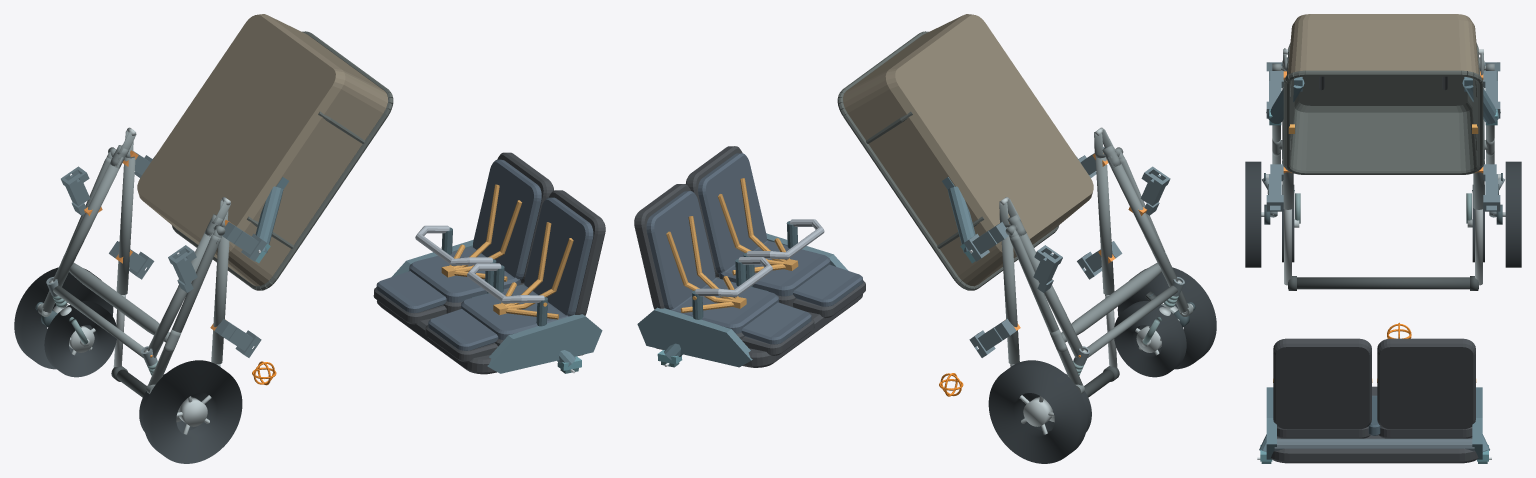
Rendered from D28_w650_state3_wheel_M.glb.
3 views of the same model, side by side, from view 1: azimuth 30°, elevation 25°; view 2: azimuth 150°, elevation 25°; view 3: azimuth 270°, elevation 25° (orthographic).
Parts seen in each view (by area): view 1: D28_Lower, D28_Upper, RL_tire.011, FR_tire.011, RR_tire.011, main_upper_1.012, V46_rearbar.011, main_lower_1.012, V46_rear_leg_-1.011, main_upper_-1.012, main_lower_-1.012, D28_Lower_Mount_M (+7 smaller); view 2: D28_Lower, D28_Upper, RR_tire.011, FL_tire.011, RL_tire.011, main_upper_-1.012, main_lower_-1.012, V46_rearbar.011, V46_rear_leg_1.011, main_upper_1.012, main_lower_1.012, D28_Lower_Mount_M (+7 smaller); view 3: D28_Lower, D28_Upper, round_handle.013, RL_tire.011, RR_tire.011, D28_Lower_Mount_M, Universal_Cabin_Receiver_H_1, Universal_Cabin_Receiver_H_-1, handle_slider_1.013, handle_slider_-1.013, main_upper_1.012, main_upper_-1.012 (+5 smaller).
Boxes of the visible parts, box(x1,y1,x2,y2) form: D28_Lower: box(137, 14, 393, 290); D28_Upper: box(373, 152, 605, 374); RL_tire.011: box(143, 360, 242, 463); FR_tire.011: box(44, 301, 116, 377); RR_tire.011: box(14, 267, 113, 369); main_upper_1.012: box(116, 157, 135, 294); V46_rearbar.011: box(69, 263, 169, 342); main_lower_1.012: box(52, 157, 123, 286); V46_rear_leg_-1.011: box(148, 234, 221, 385); main_upper_-1.012: box(211, 227, 229, 364); main_lower_-1.012: box(147, 231, 214, 357); D28_Lower_Mount_M: box(152, 156, 288, 263); D28_Lower: box(837, 14, 1093, 290); D28_Upper: box(634, 146, 865, 367); RR_tire.011: box(988, 360, 1087, 463); FL_tire.011: box(1114, 301, 1186, 377); RL_tire.011: box(1117, 267, 1216, 369); main_upper_-1.012: box(1095, 157, 1114, 294); main_lower_-1.012: box(1108, 157, 1178, 286); V46_rearbar.011: box(1061, 262, 1161, 342); V46_rear_leg_1.011: box(1010, 234, 1082, 385); main_upper_1.012: box(1001, 227, 1019, 364); main_lower_1.012: box(1018, 233, 1083, 357); D28_Lower_Mount_M: box(942, 156, 1078, 263); D28_Lower: box(1283, 14, 1483, 174); D28_Upper: box(1266, 338, 1482, 463); round_handle.013: box(1288, 277, 1478, 289); RL_tire.011: box(1245, 161, 1261, 267); RR_tire.011: box(1505, 161, 1521, 267); D28_Lower_Mount_M: box(1266, 77, 1500, 125); Universal_Cabin_Receiver_H_1: box(1483, 164, 1500, 211); Universal_Cabin_Receiver_H_-1: box(1266, 164, 1283, 211); handle_slider_1.013: box(1475, 209, 1482, 285); handle_slider_-1.013: box(1284, 209, 1291, 285); main_upper_1.012: box(1473, 80, 1484, 209); main_upper_-1.012: box(1282, 80, 1293, 209).
Bounding box in the file's own units: 1.55 × 1.08 × 0.781.
